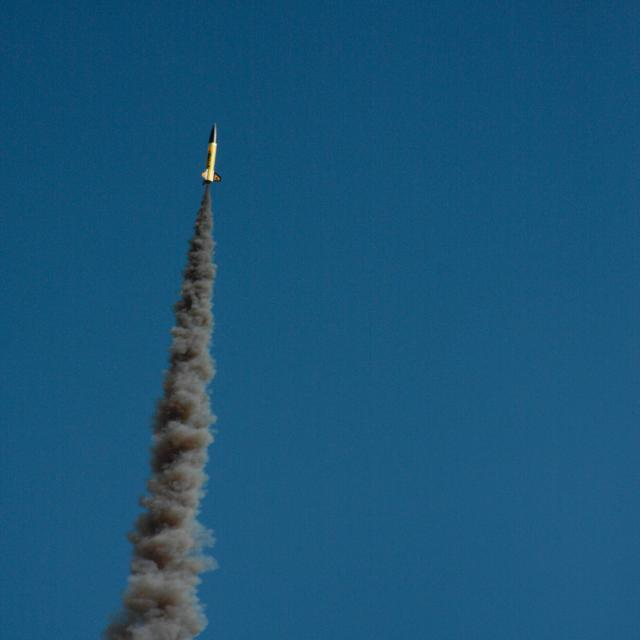Rocket: (200, 122, 222, 186)
